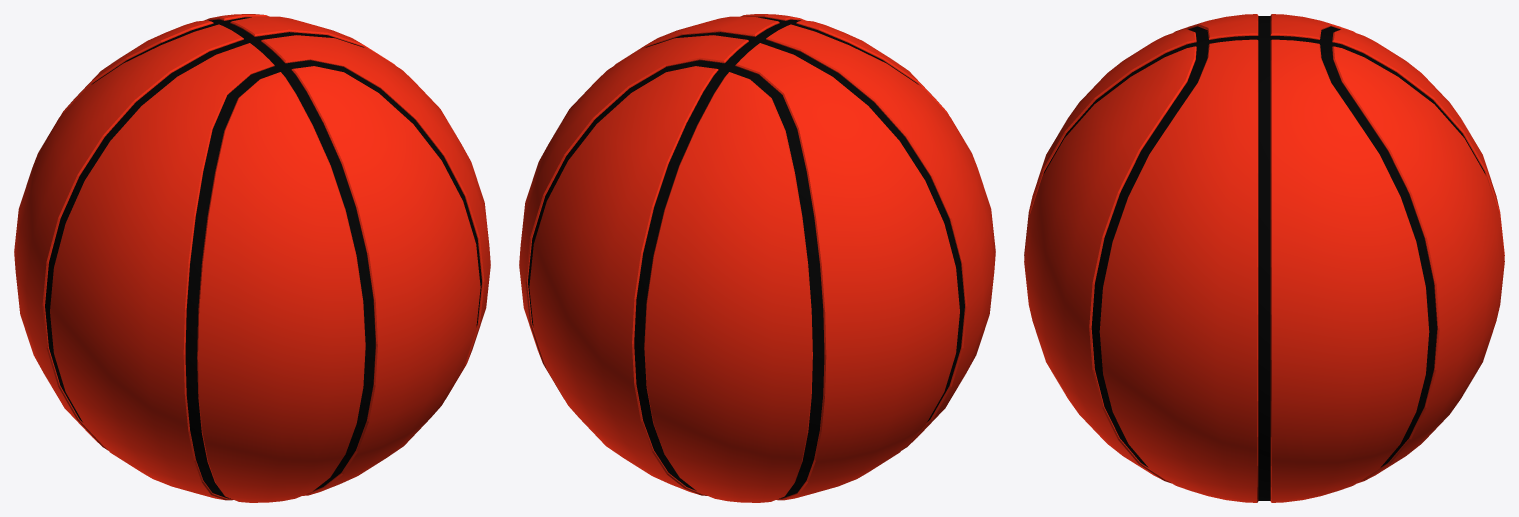
The model's file is SM_Basketball.fbx.
3 views of the same model, side by side, from view 1: azimuth 30°, elevation 25°; view 2: azimuth 150°, elevation 25°; view 3: azimuth 270°, elevation 25° (orthographic).
Parts seen in each view (by area): view 1: basketball_hi, stripes; view 2: basketball_hi, stripes; view 3: basketball_hi, stripes.
Boxes of the visible parts, x1,y1,x2,y2 form: basketball_hi: (14, 14, 490, 502); stripes: (45, 17, 481, 498); basketball_hi: (519, 14, 995, 502); stripes: (528, 17, 964, 498); basketball_hi: (1024, 14, 1504, 502); stripes: (1043, 16, 1485, 500).
Size of the model in its own units: 95.93 by 97.66 by 95.93.
